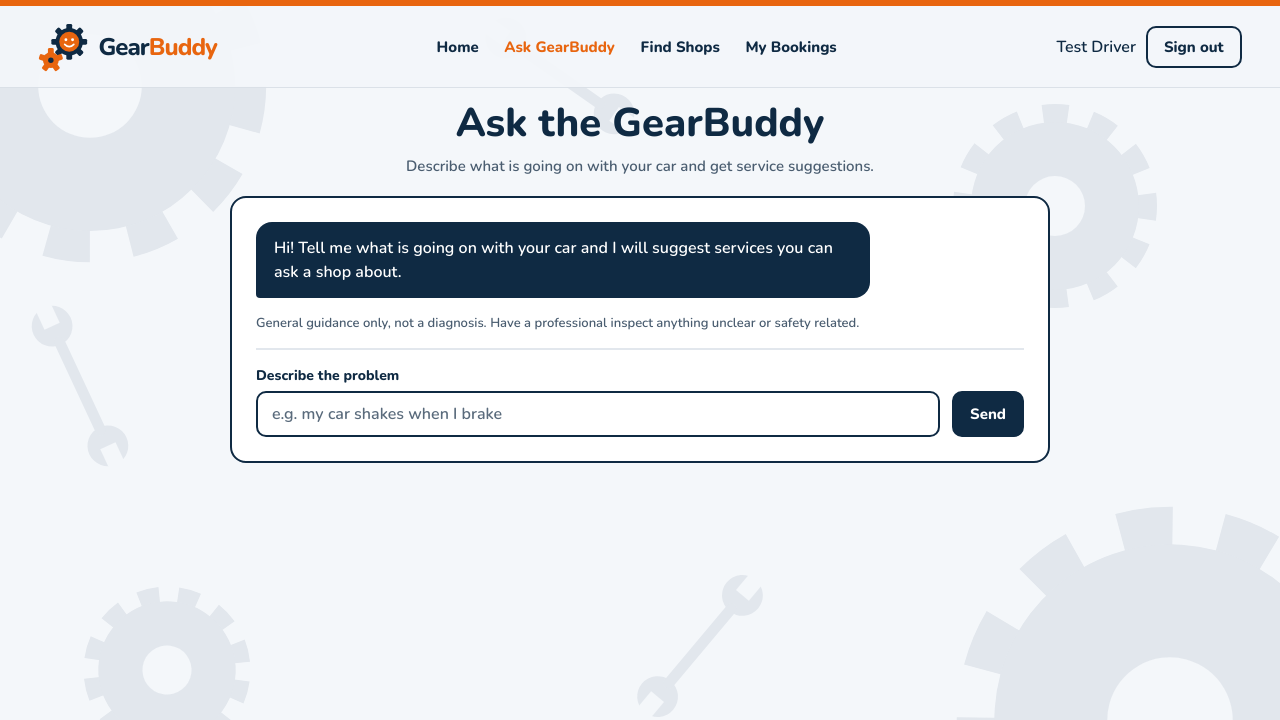
Test: GearBuddy screens › shows the backend diagnostic when the AI service is unavailable
In the field labelled "Describe the problem": (598, 414) [256,391,940,437], type "My dashboard warning light is on"
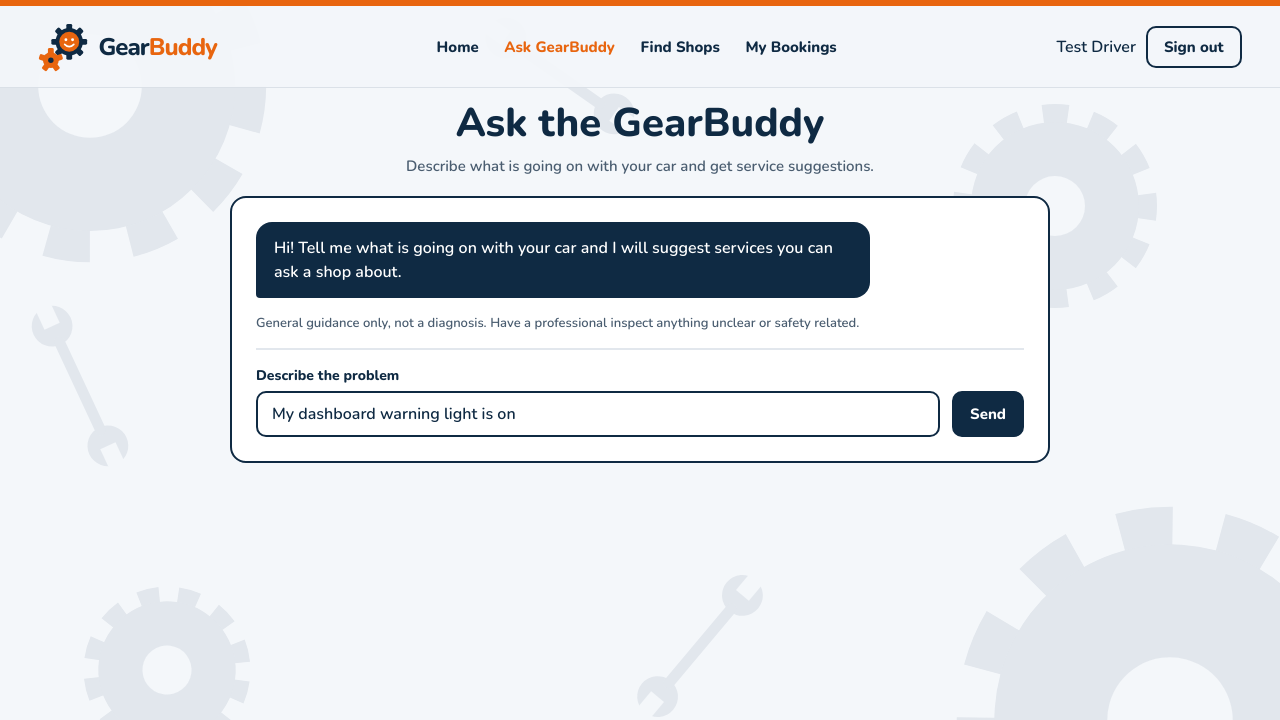
Submit the form named "Send a vehicle problem", box [256,348,1024,437]
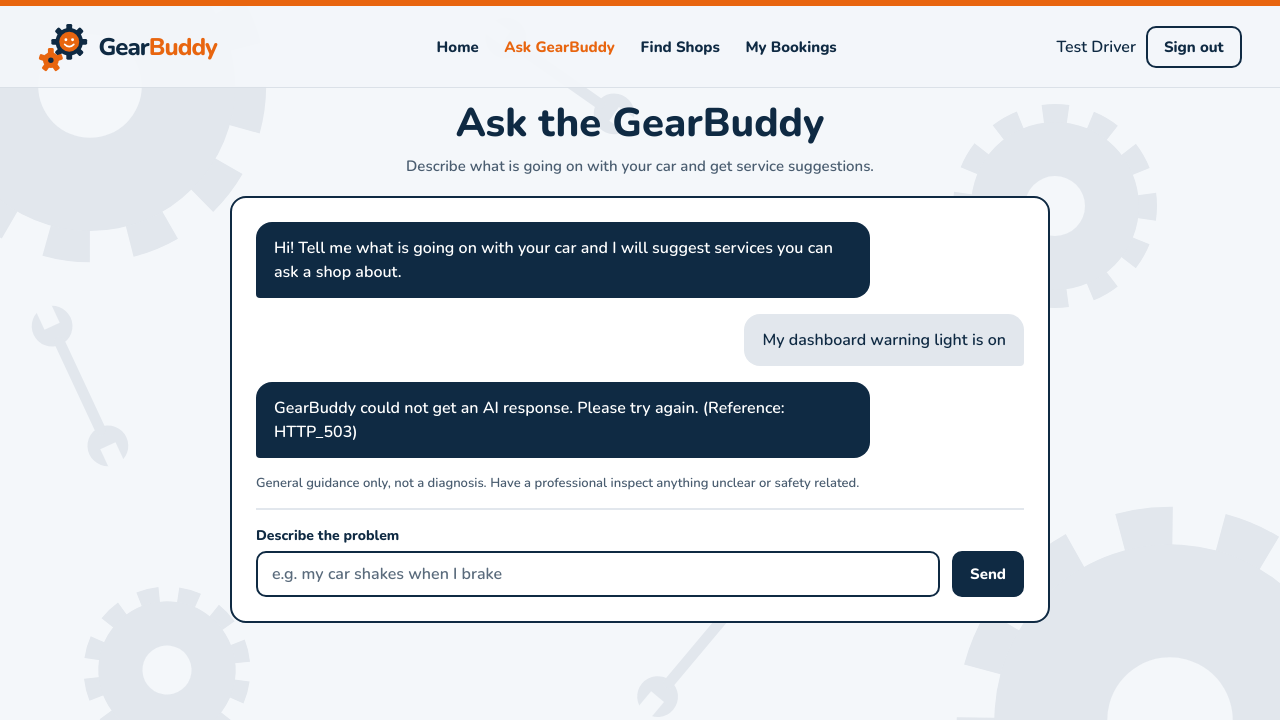
Expected: the text "Reference: HTTP_503" is shown, [274,397,785,443]
